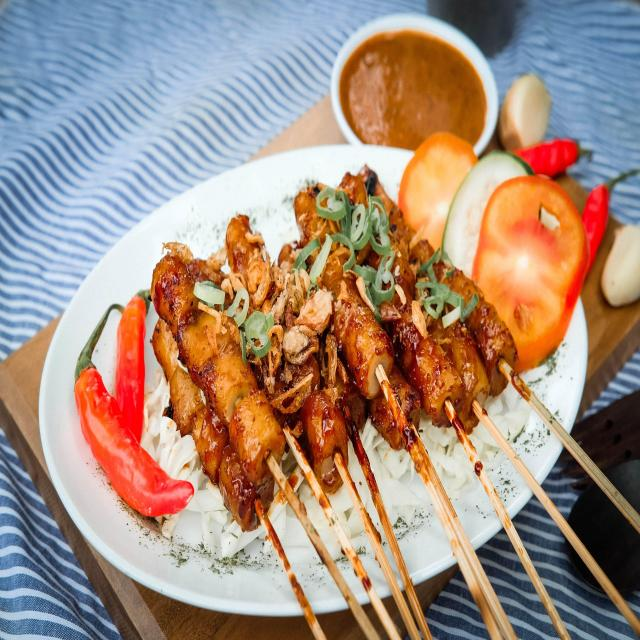Sate: (125, 137, 623, 640)
